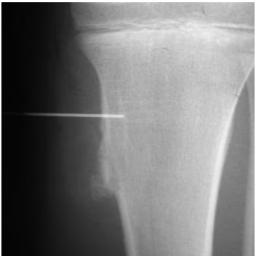cancer: (90, 118, 150, 206)
